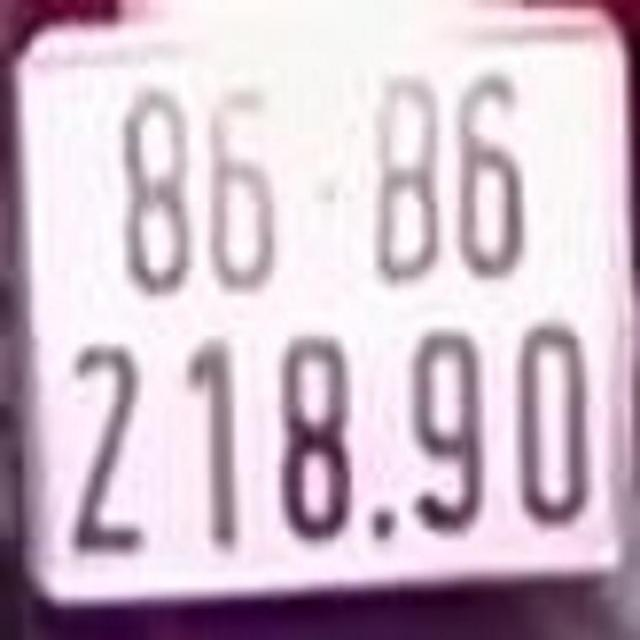0: (512, 312, 595, 535)
1: (179, 335, 250, 554)
2: (68, 333, 145, 558)
6: (201, 74, 275, 297), (451, 68, 525, 282)
8: (276, 329, 355, 546), (120, 80, 192, 291)
9: (404, 318, 488, 536)
B: (372, 72, 446, 283)
